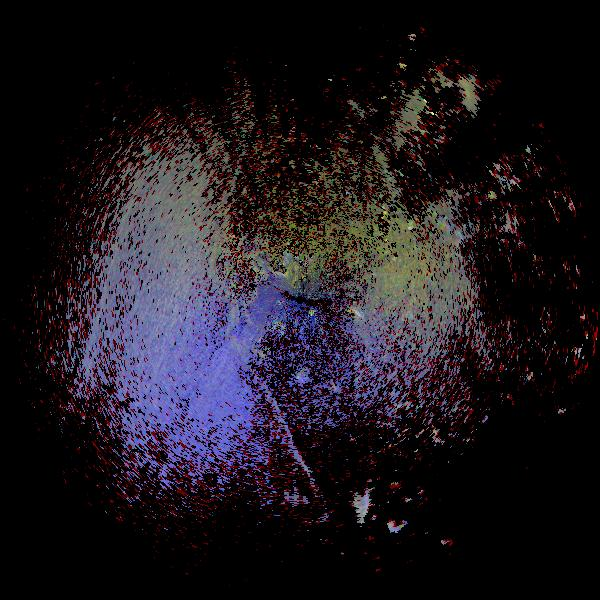roost: (345, 303, 366, 324), (296, 370, 308, 382)
